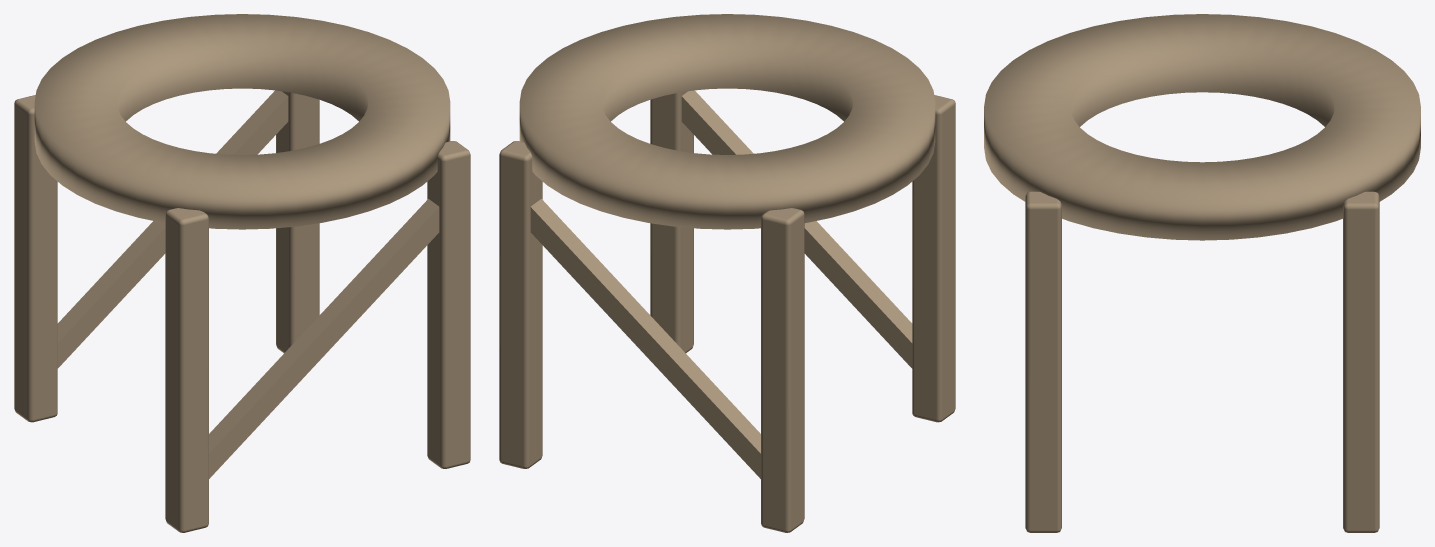
File: coastal-saltworks-and-trade-port-coastal-saltworks-and-84a4ec7f__31386.glb
The picture shows the model from 3 angles, left to right: view 1: azimuth 30°, elevation 25°; view 2: azimuth 150°, elevation 25°; view 3: azimuth 270°, elevation 25°; orthographic projection. The views are drawn at different scales.
Visible parts, largest first — view 1: coastal-saltworks-and-trade-port-draining-basket-stand; view 2: coastal-saltworks-and-trade-port-draining-basket-stand; view 3: coastal-saltworks-and-trade-port-draining-basket-stand.
Part boxes in pixels (x1,y1,x2,y2): coastal-saltworks-and-trade-port-draining-basket-stand: (14,14,470,532); coastal-saltworks-and-trade-port-draining-basket-stand: (499,14,955,532); coastal-saltworks-and-trade-port-draining-basket-stand: (984,14,1420,532).
Bounding box in the file's own units: 0.66 × 0.59 × 0.66.
